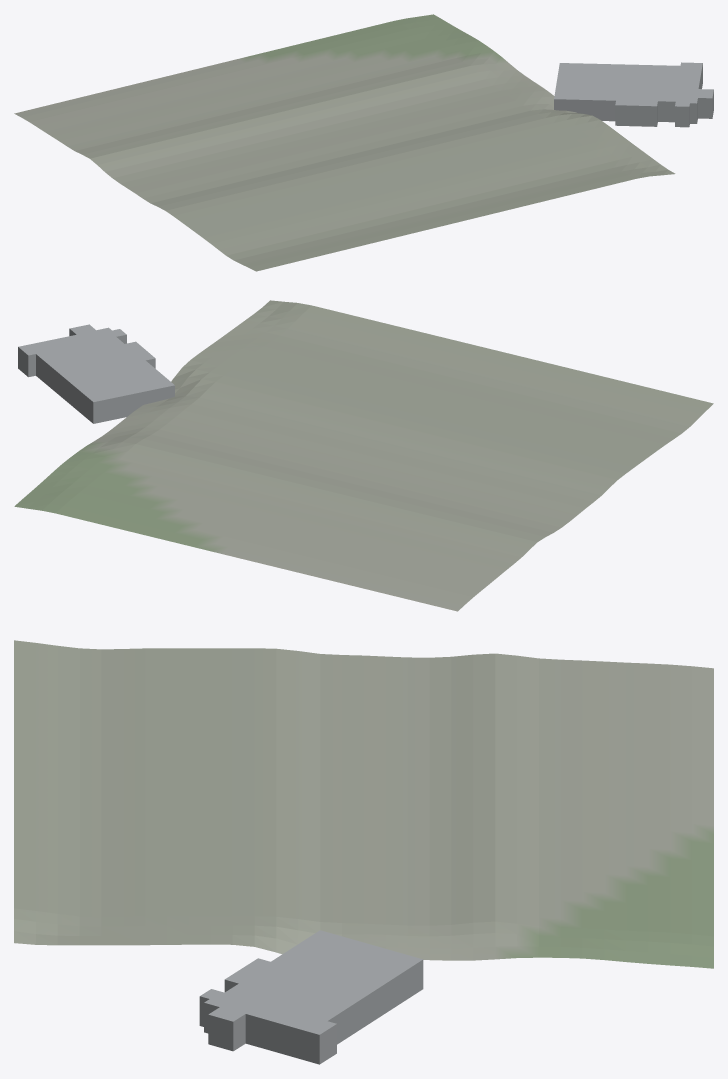
File: tile_-10_-4.glb
3 renders of one model, top to bottom at view 1: azimuth 30°, elevation 25°; view 2: azimuth 150°, elevation 25°; view 3: azimuth 270°, elevation 25°, orthographic. The views are drawn at different scales.
Visible parts, largest first — view 1: terrain, buildings; view 2: terrain, buildings; view 3: terrain, buildings.
Part boxes in pixels (<box>): terrain: <box>14,14,675,271</box>; buildings: <box>554,62,713,127</box>; terrain: <box>14,300,713,611</box>; buildings: <box>18,324,174,423</box>; terrain: <box>14,640,713,968</box>; buildings: <box>199,930,423,1064</box>.
Size of the model in its own units: 337 by 14.14 by 256.
